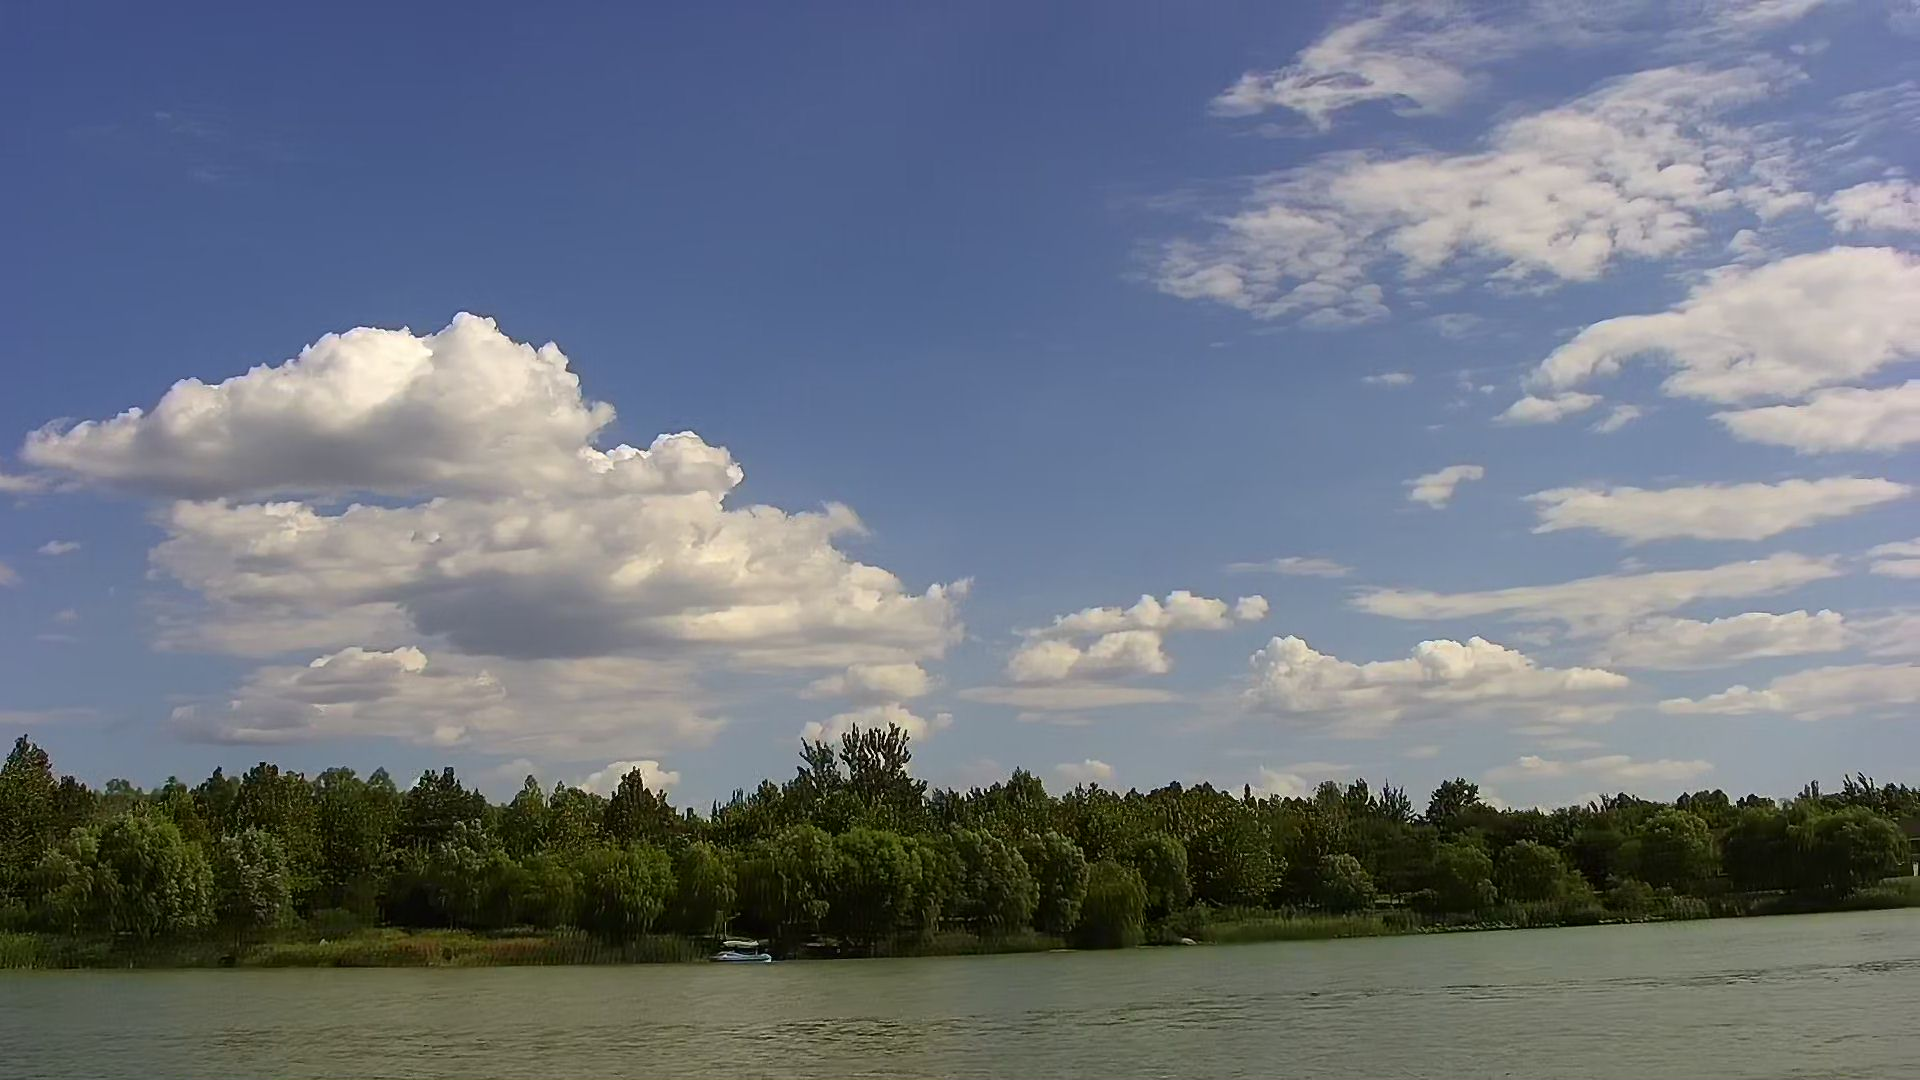boat: (705, 935, 777, 968)
